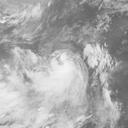cyclone: (23, 32, 91, 98)
